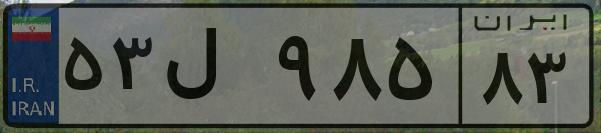3: (525, 38, 570, 115), (110, 28, 158, 98)
5: (385, 28, 445, 110), (57, 26, 110, 100)
8: (330, 28, 385, 110), (475, 38, 525, 113)
9: (270, 28, 330, 110)
ل: (158, 20, 270, 120)
